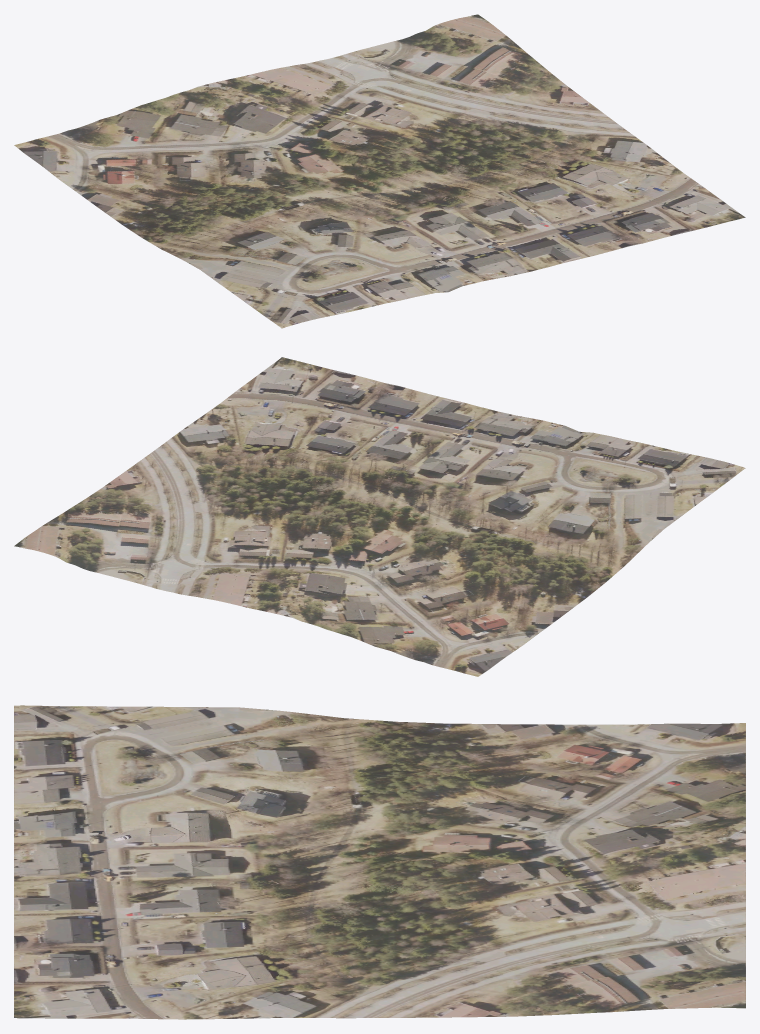
Rendered from CM_Terrain_24490663_6817132.fbx.
The picture shows the model from 3 angles, top to bottom: view 1: azimuth 30°, elevation 25°; view 2: azimuth 150°, elevation 25°; view 3: azimuth 270°, elevation 25°; orthographic projection. The views are drawn at different scales.
Parts seen in each view (by area): view 1: CM_Terrain_24490663_6817132_LOD0; view 2: CM_Terrain_24490663_6817132_LOD0; view 3: CM_Terrain_24490663_6817132_LOD0.
Boxes of the visible parts, <box> form: CM_Terrain_24490663_6817132_LOD0: <box>14,14,745,328</box>; CM_Terrain_24490663_6817132_LOD0: <box>14,357,745,676</box>; CM_Terrain_24490663_6817132_LOD0: <box>14,705,745,1019</box>.
Size of what is drawn, in the model's own units: 205 by 8.38 by 205.
